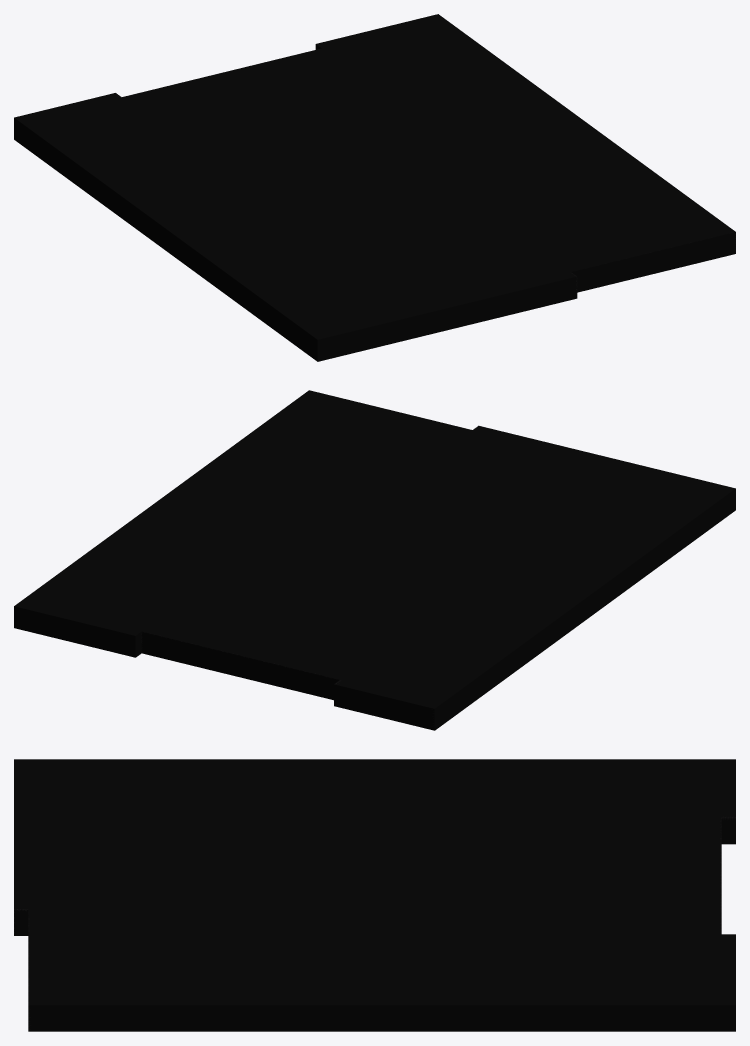
Rendered from LeguLeteron_Botton_Control_Case_Cover.fbx.
3 renders of one model, top to bottom at view 1: azimuth 30°, elevation 25°; view 2: azimuth 150°, elevation 25°; view 3: azimuth 270°, elevation 25°, orthographic. The views are drawn at different scales.
Visible parts, largest first — view 1: node_id806; view 2: node_id806; view 3: node_id806.
Part boxes in pixels (bbox=[...]): node_id806: bbox=[14, 14, 735, 361]; node_id806: bbox=[14, 390, 735, 730]; node_id806: bbox=[14, 759, 735, 1031].
Size of the model in its own units: 0.83 by 0.0412 by 1.03.
Materials: 1 (1 with a texture image).
